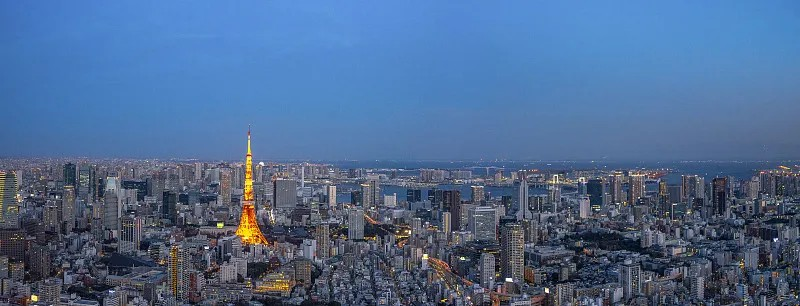Tokyo: (233, 121, 269, 248)
